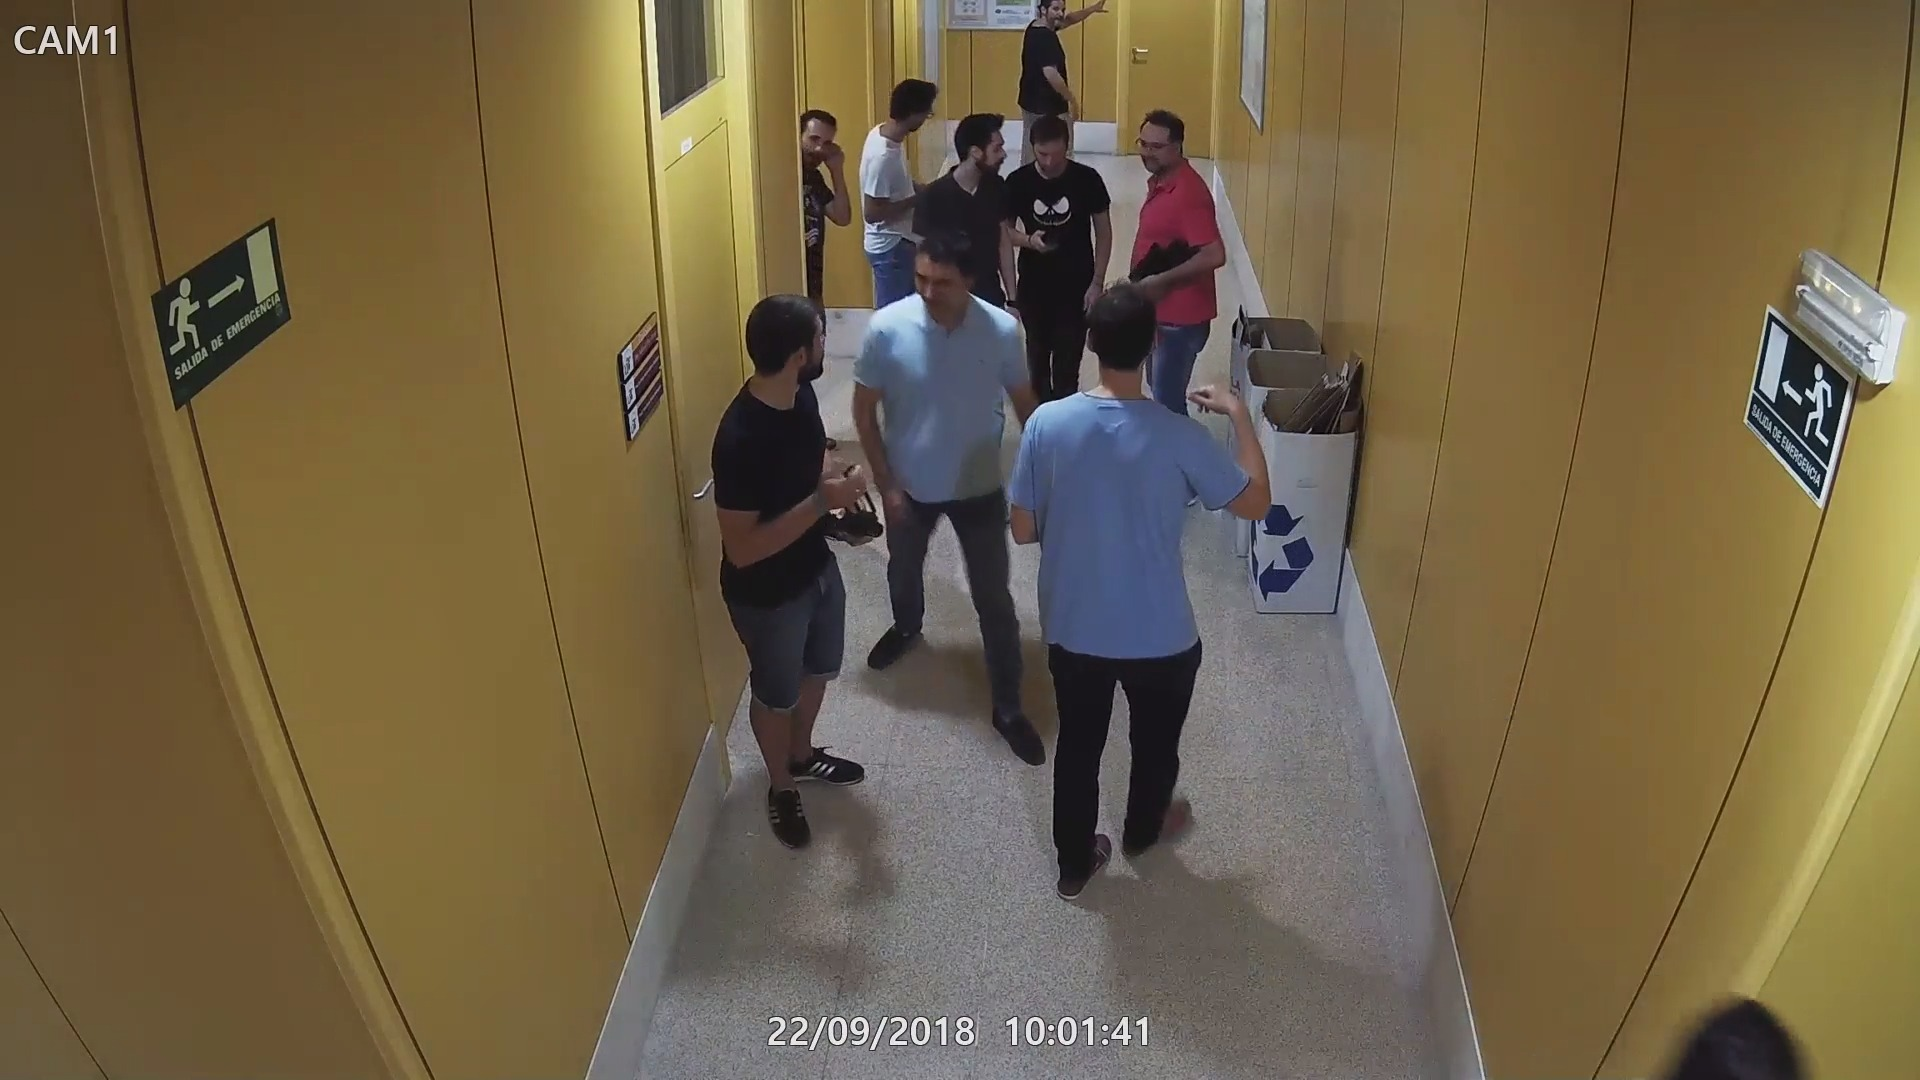Short_rifle: (815, 473, 895, 541), (1121, 231, 1203, 289)
